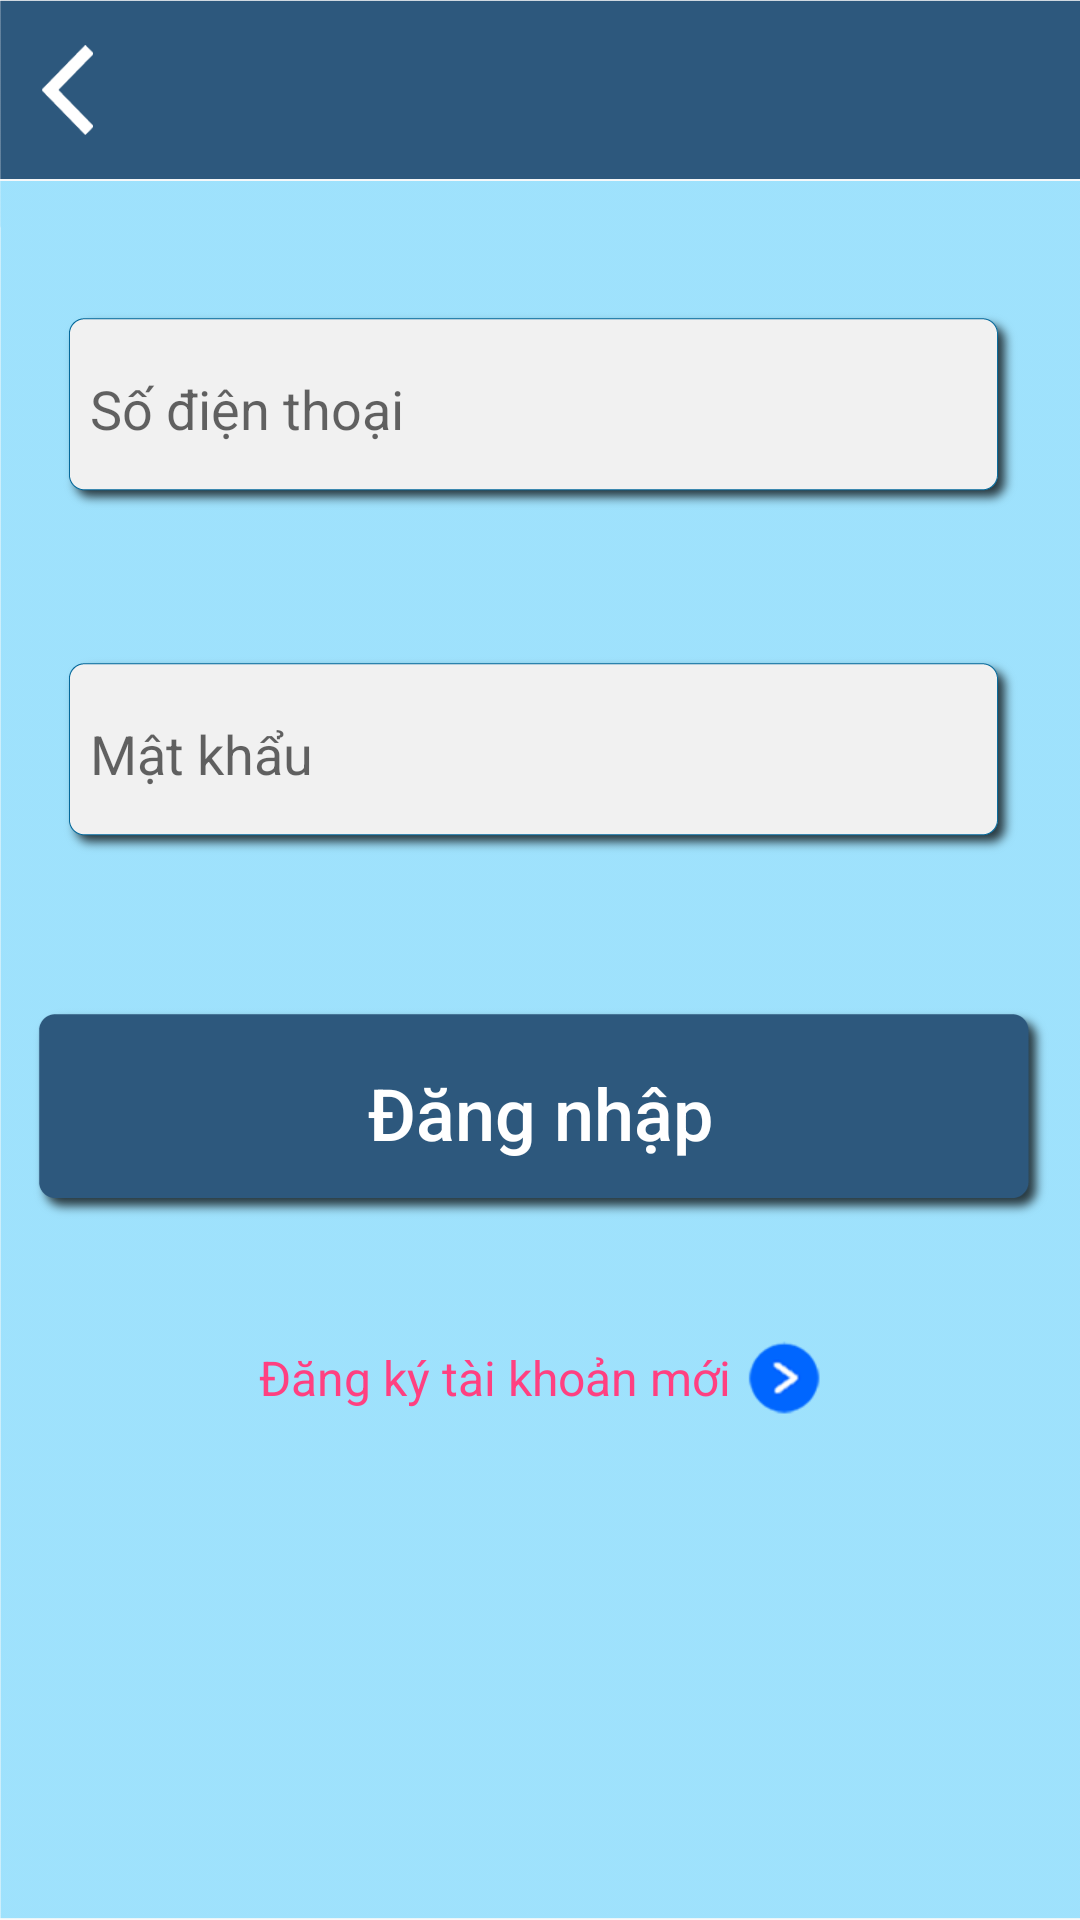

Point at icon controls on the screen. Image size 1080px×1920px, points as [x,y].
arrow right: [784,1378]
back: [90,90]
